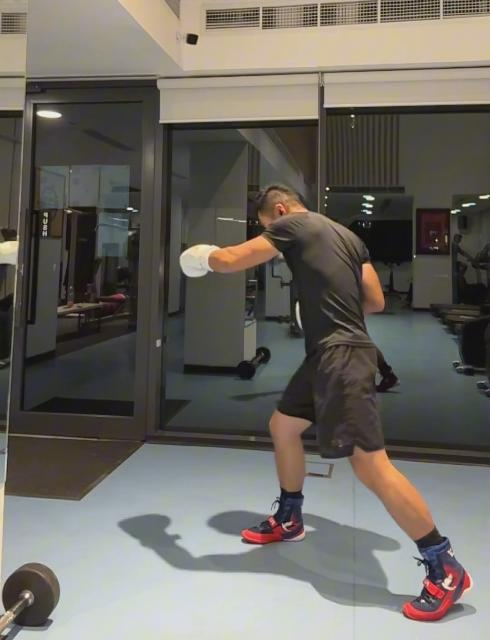punch: (177, 181, 473, 625)
